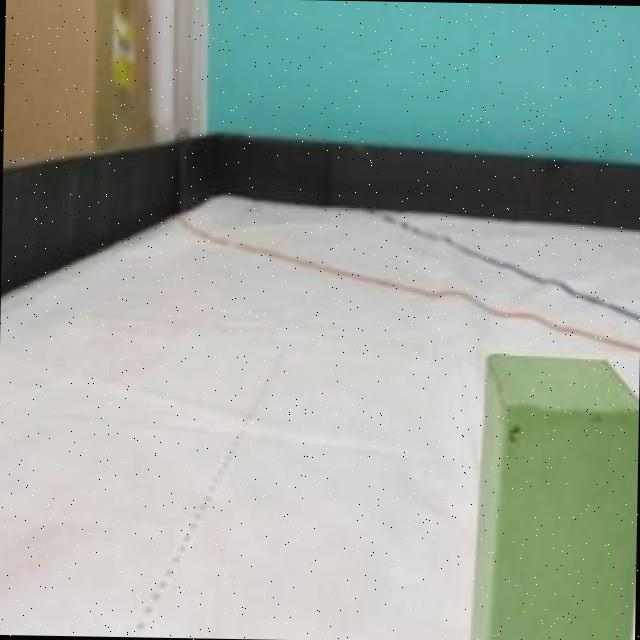greenbox: (467, 347, 639, 640)
